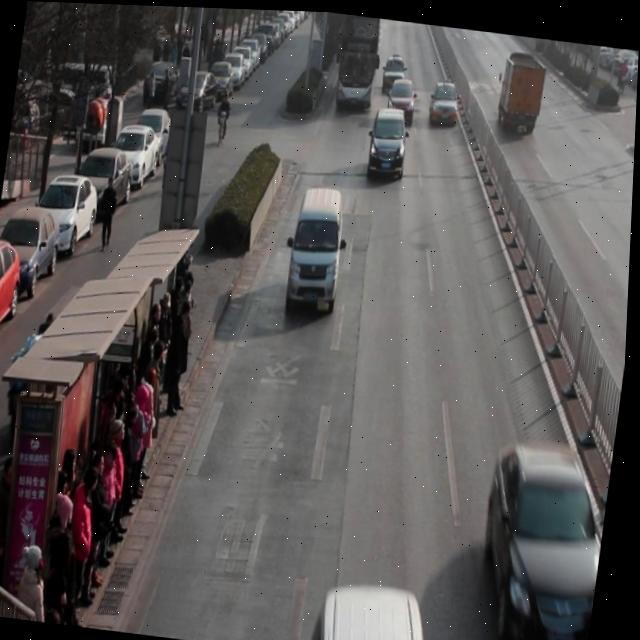bus: (496, 47, 547, 132)
car: (477, 437, 617, 640), (365, 104, 412, 182), (427, 77, 462, 129), (385, 73, 417, 125), (381, 52, 407, 96)
truck: (285, 184, 351, 317)
van: (334, 11, 382, 107)
